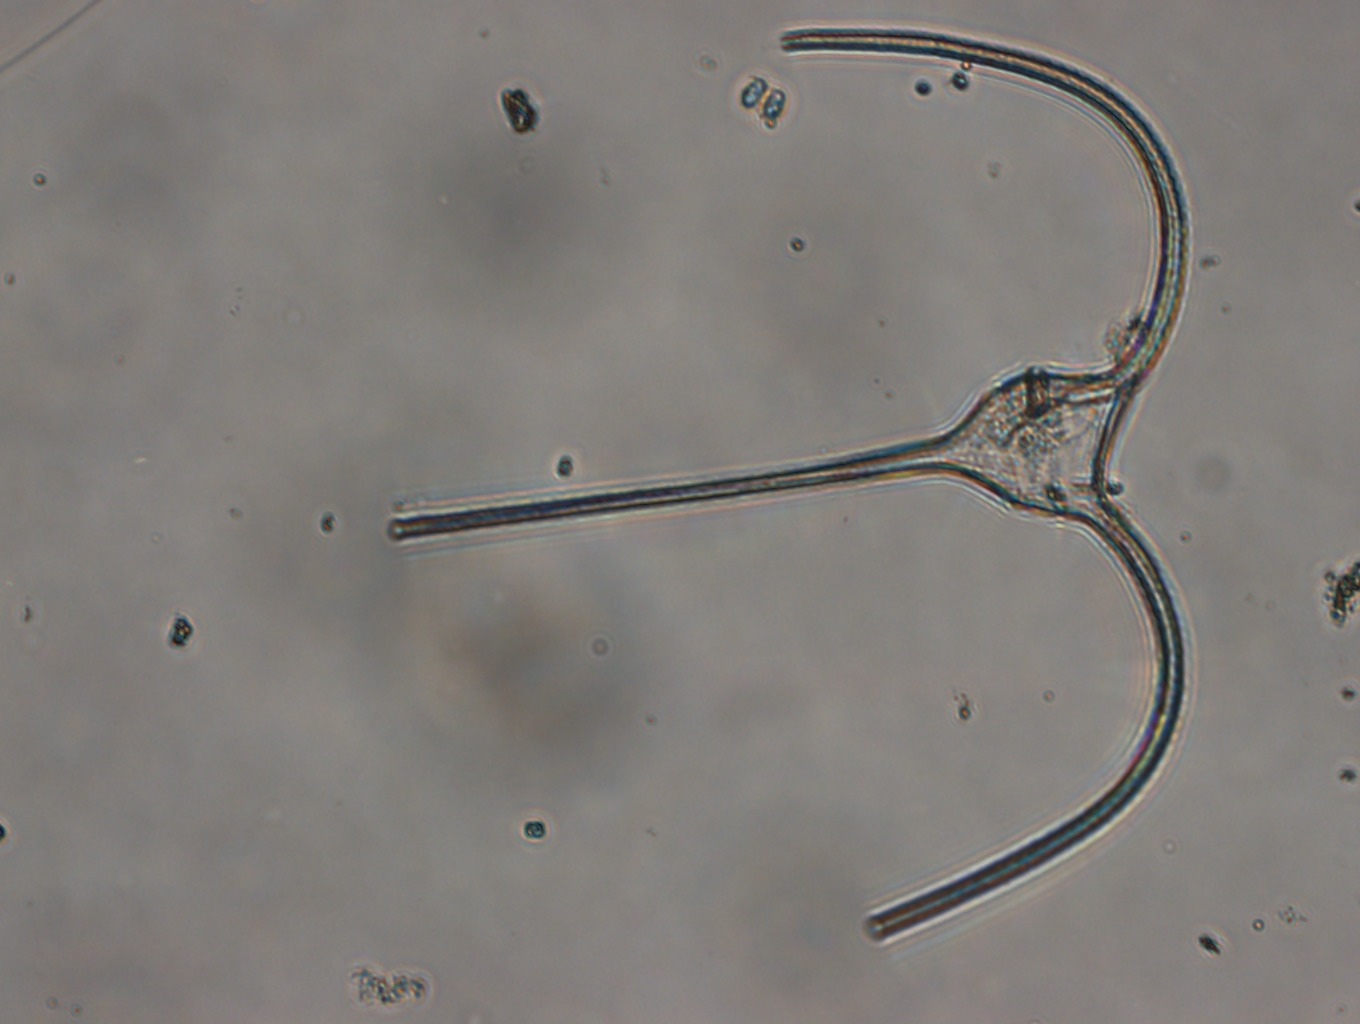ceratium trichoceros: (386, 19, 1196, 945)
